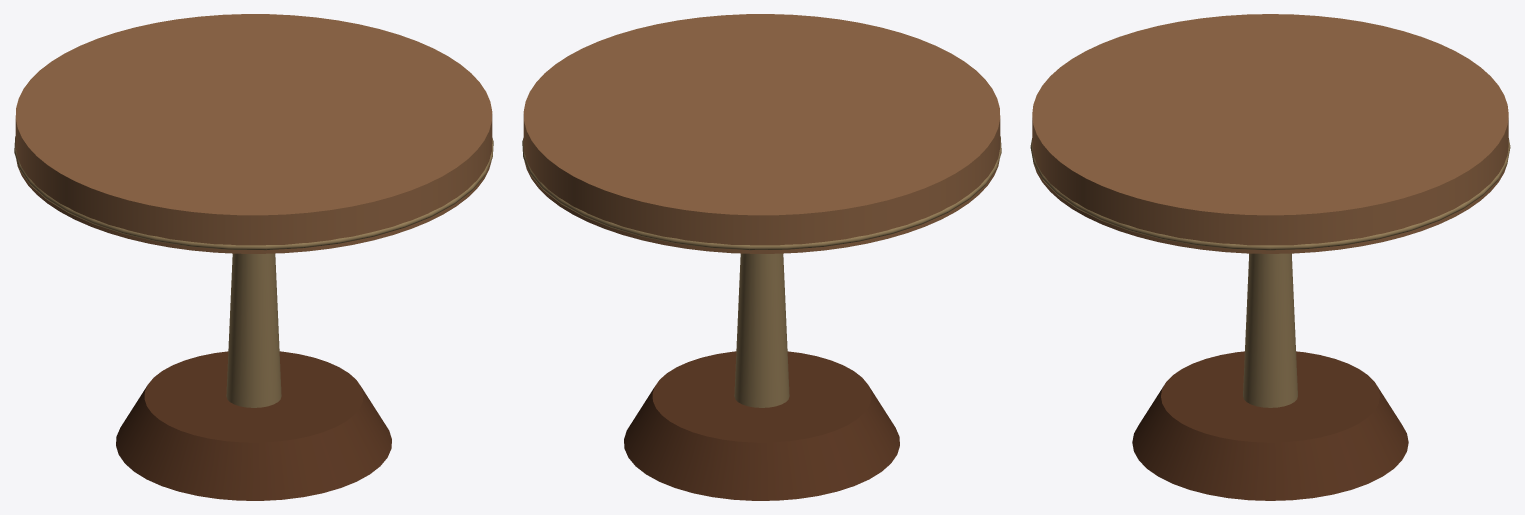
Rendered from nesting-table-low.glb.
3 views of the same model, side by side, from view 1: azimuth 30°, elevation 25°; view 2: azimuth 150°, elevation 25°; view 3: azimuth 270°, elevation 25° (orthographic).
Parts seen in each view (by area): view 1: part::nesting-table-low/round-honed-top-001, part::nesting-table-low/splayed-pedestal-foot-001, part::nesting-table-low/tapered-pedestal-001, part::nesting-table-low/brass-tabletop-reveal-001; view 2: part::nesting-table-low/round-honed-top-001, part::nesting-table-low/splayed-pedestal-foot-001, part::nesting-table-low/tapered-pedestal-001, part::nesting-table-low/brass-tabletop-reveal-001; view 3: part::nesting-table-low/round-honed-top-001, part::nesting-table-low/splayed-pedestal-foot-001, part::nesting-table-low/tapered-pedestal-001, part::nesting-table-low/brass-tabletop-reveal-001.
Part boxes in pixels (x1=…): part::nesting-table-low/round-honed-top-001: x1=15, y1=14, x2=492, y2=253; part::nesting-table-low/splayed-pedestal-foot-001: x1=116, y1=351, x2=391, y2=500; part::nesting-table-low/tapered-pedestal-001: x1=226, y1=253, x2=281, y2=407; part::nesting-table-low/brass-tabletop-reveal-001: x1=14, y1=136, x2=493, y2=250; part::nesting-table-low/round-honed-top-001: x1=523, y1=14, x2=1000, y2=253; part::nesting-table-low/splayed-pedestal-foot-001: x1=624, y1=351, x2=899, y2=500; part::nesting-table-low/tapered-pedestal-001: x1=734, y1=253, x2=789, y2=407; part::nesting-table-low/brass-tabletop-reveal-001: x1=522, y1=136, x2=1001, y2=250; part::nesting-table-low/round-honed-top-001: x1=1032, y1=14, x2=1508, y2=253; part::nesting-table-low/splayed-pedestal-foot-001: x1=1132, y1=351, x2=1408, y2=500; part::nesting-table-low/tapered-pedestal-001: x1=1243, y1=253, x2=1297, y2=407; part::nesting-table-low/brass-tabletop-reveal-001: x1=1030, y1=138, x2=1510, y2=250.
Size of the model in its own units: 0.564 by 0.425 by 0.564.
